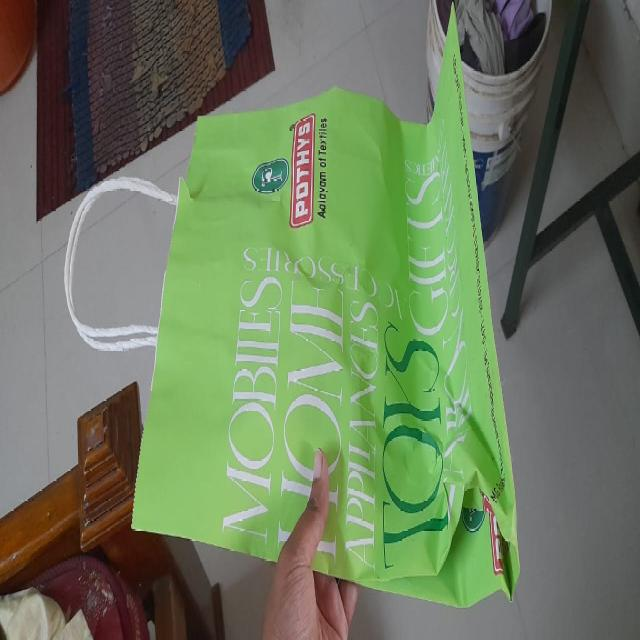Paper_Bag - Recyclable: (129, 8, 521, 610)
